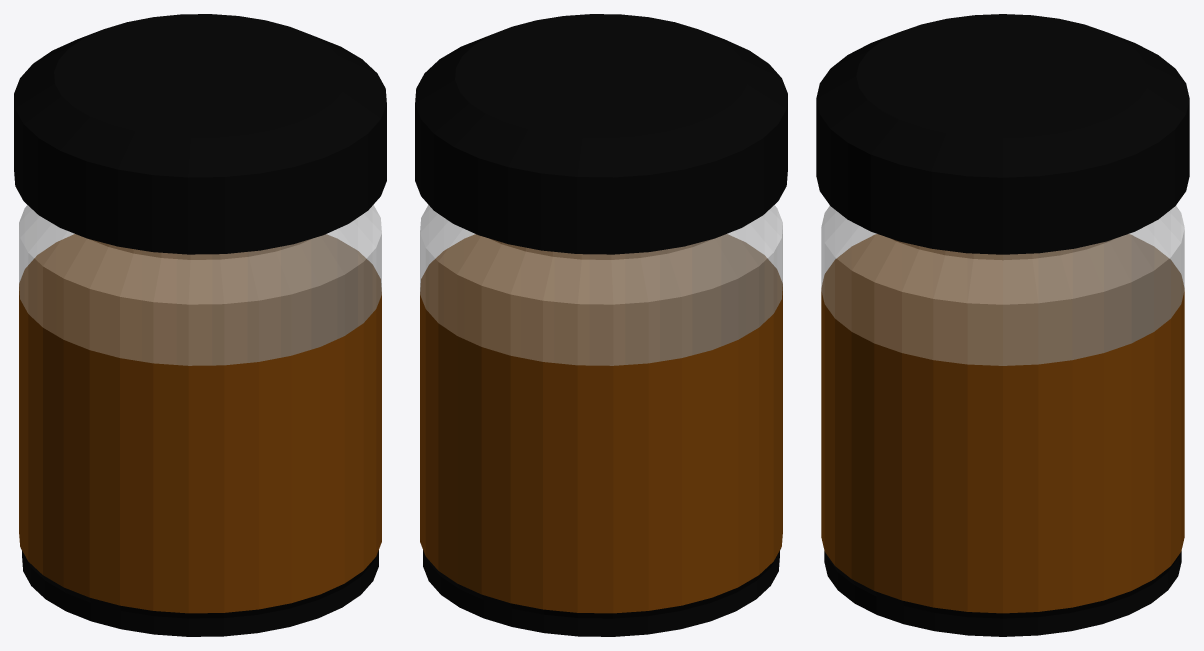
File: sugar2.fbx
3 views of the same model, side by side, from view 1: azimuth 30°, elevation 25°; view 2: azimuth 150°, elevation 25°; view 3: azimuth 270°, elevation 25° (orthographic).
Parts seen in each view (by area): view 1: Cylinder.004; view 2: Cylinder.004; view 3: Cylinder.004.
Part boxes in pixels (<box>): Cylinder.004: <box>14,14,386,636</box>; Cylinder.004: <box>415,14,787,636</box>; Cylinder.004: <box>816,14,1189,636</box>.
Bounding box in the file's own units: 57.14 × 81.93 × 57.14.
